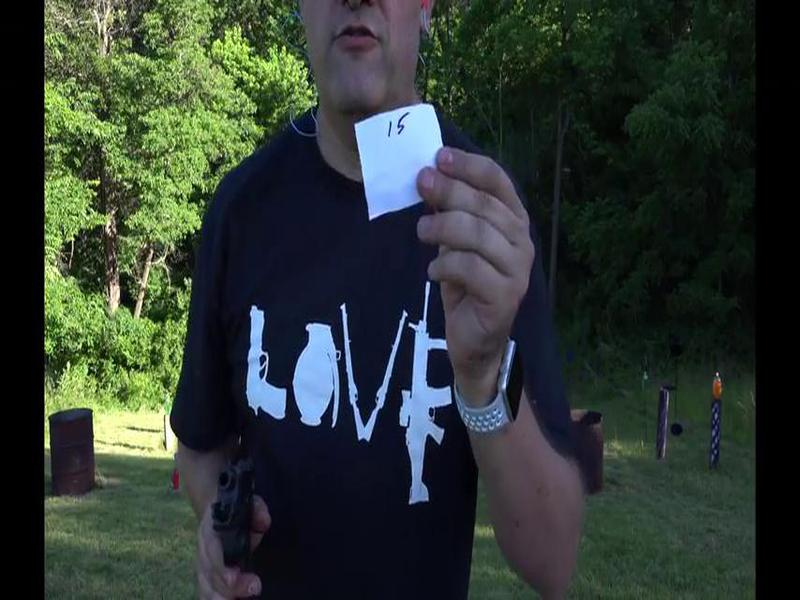Pistola: (188, 453, 284, 589)
